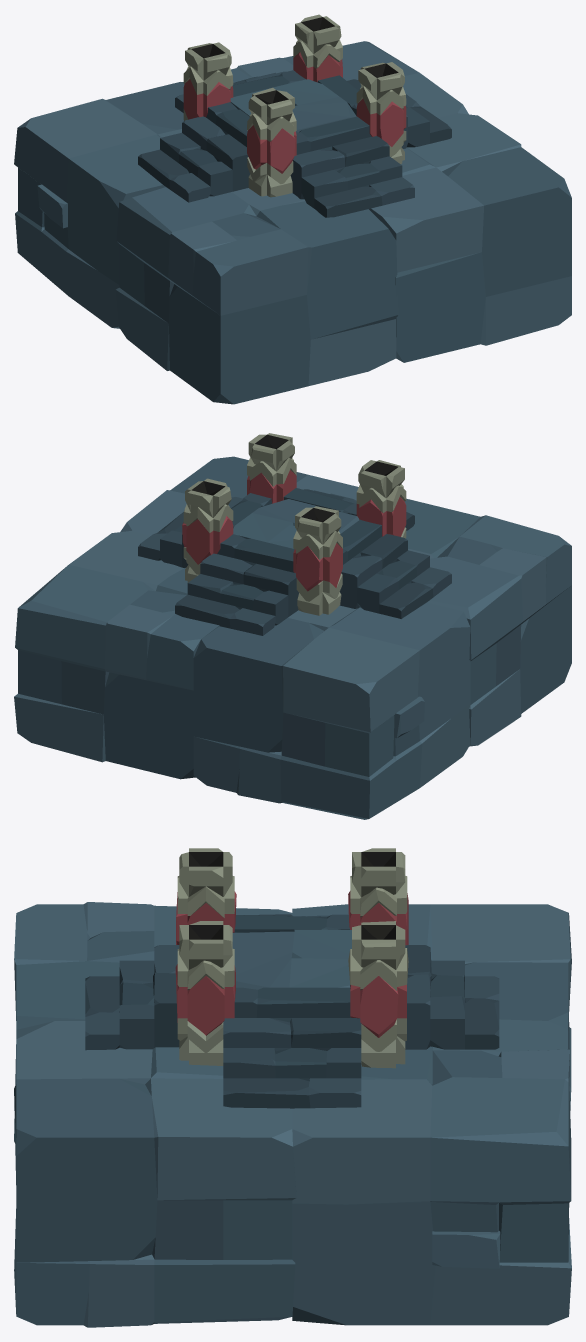
The model's file is platform_floor_02_platform_small.fbx.
The picture shows the model from 3 angles, top to bottom: view 1: azimuth 30°, elevation 25°; view 2: azimuth 150°, elevation 25°; view 3: azimuth 270°, elevation 25°; orthographic projection. The views are drawn at different scales.
Visible parts, largest first — view 1: platform_floor_02_platform_small; view 2: platform_floor_02_platform_small; view 3: platform_floor_02_platform_small.
Boxes of the visible parts, x1,y1,x2,y2 form: platform_floor_02_platform_small: (14,14,571,404); platform_floor_02_platform_small: (14,433,571,819); platform_floor_02_platform_small: (14,848,571,1327).
Bounding box in the file's own units: 827 × 509 × 808.
